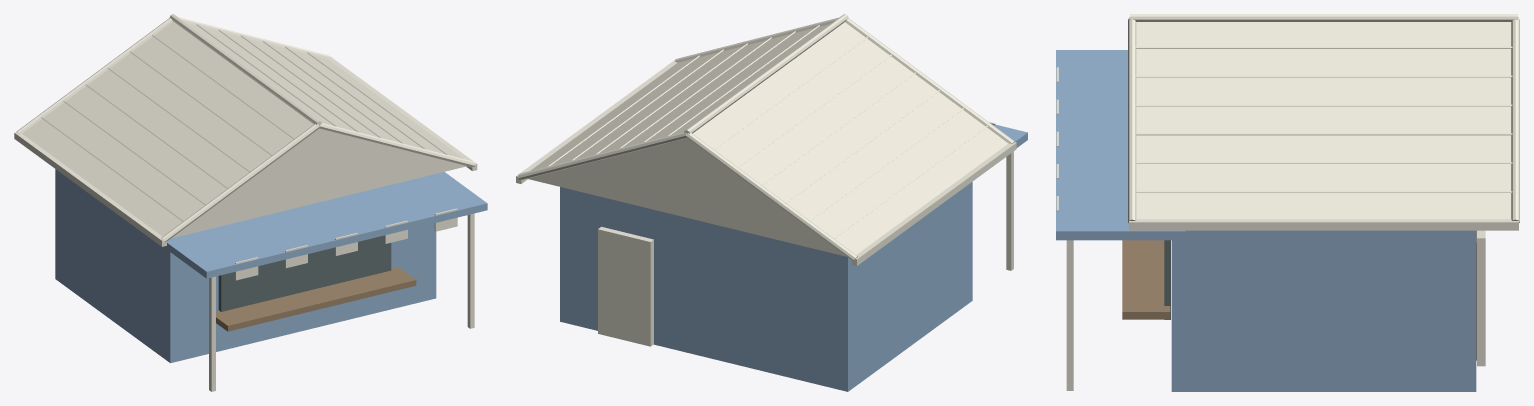
3 views of the same model, side by side, from view 1: azimuth 30°, elevation 25°; view 2: azimuth 150°, elevation 25°; view 3: azimuth 270°, elevation 25° (orthographic). The views are drawn at different scales.
Size of the model in its own units: 8.53 by 5.72 by 8.22.
